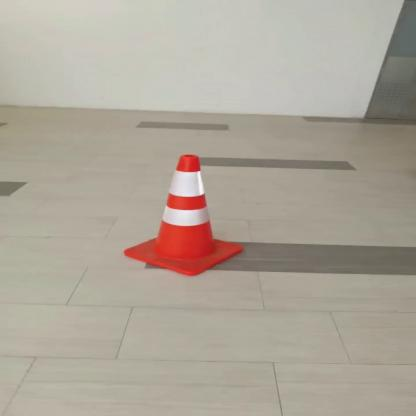cone: (105, 151, 271, 281)
